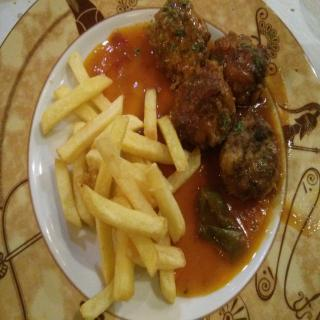French fries: (35, 48, 204, 320)
